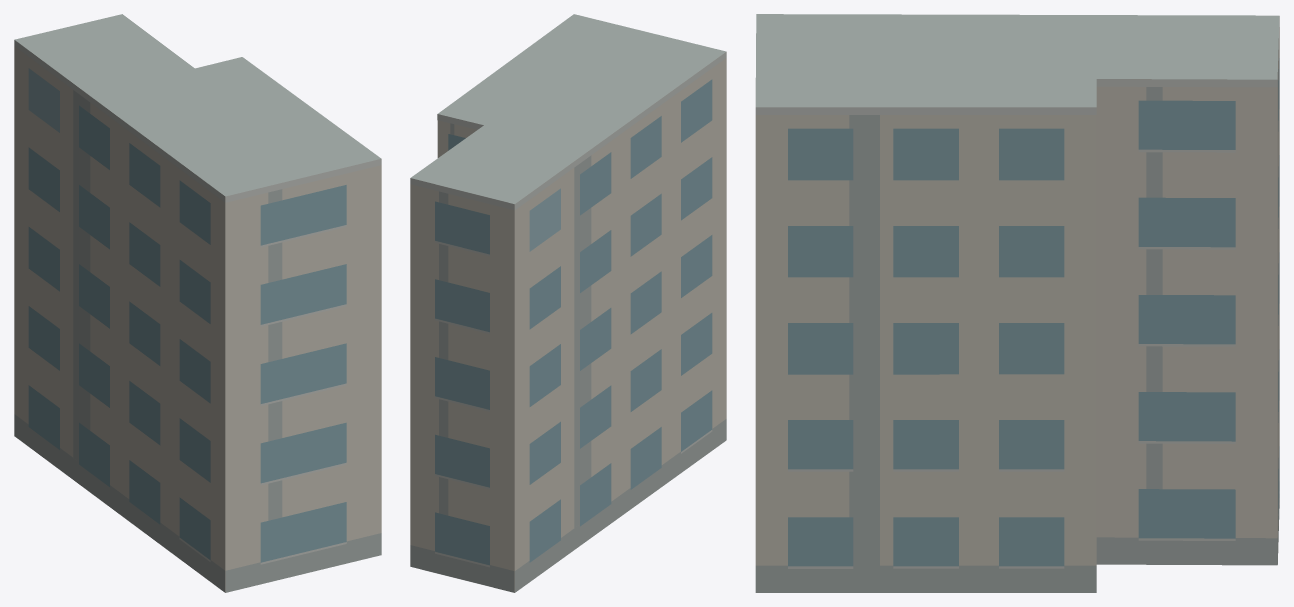
File: survey-upis-32730056.glb
3 renders of one model, left to right at view 1: azimuth 30°, elevation 25°; view 2: azimuth 150°, elevation 25°; view 3: azimuth 270°, elevation 25°, orthographic. The views are drawn at different scales.
Parts seen in each view (by area): view 1: survey-upis-32730056.tmp; view 2: survey-upis-32730056.tmp; view 3: survey-upis-32730056.tmp.
Part boxes in pixels (box(x1,y1,x2,y2)): survey-upis-32730056.tmp: box(14, 14, 381, 592); survey-upis-32730056.tmp: box(410, 14, 726, 592); survey-upis-32730056.tmp: box(755, 14, 1279, 592).
Bounding box in the file's own units: 6.3 × 15.25 × 14.93.
